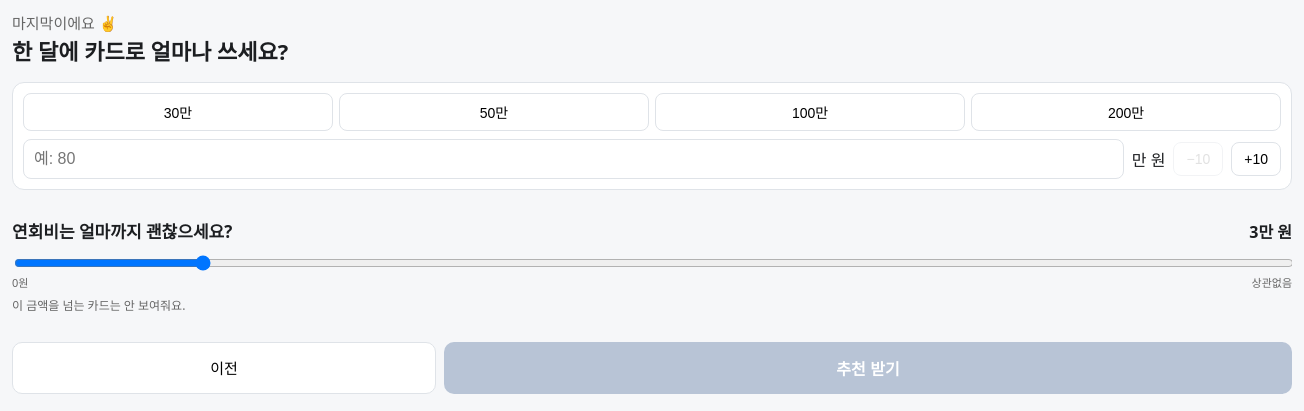
+10/−10 버튼으로 사용액을 미세 조정한다
This screenshot has width=1304, height=411.
Expected: the button named "10만 원 빼기" is disabled, [1174,142,1223,176]
Step 1. Click the button "50만" → coordinates (494, 112), box [339,93,649,131]
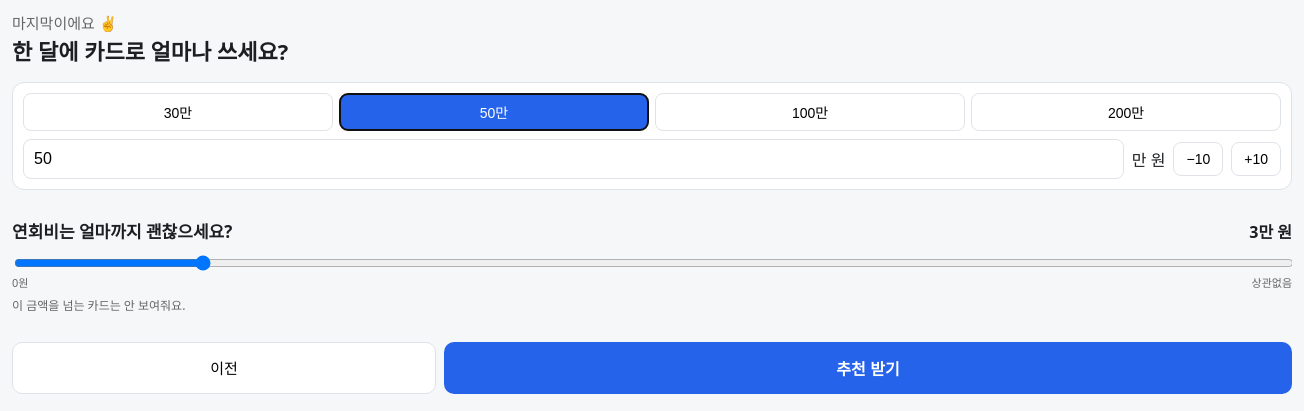
Step 2. Click the button named "10만 원 더하기" → coordinates (1256, 159), box [1231,142,1281,176]
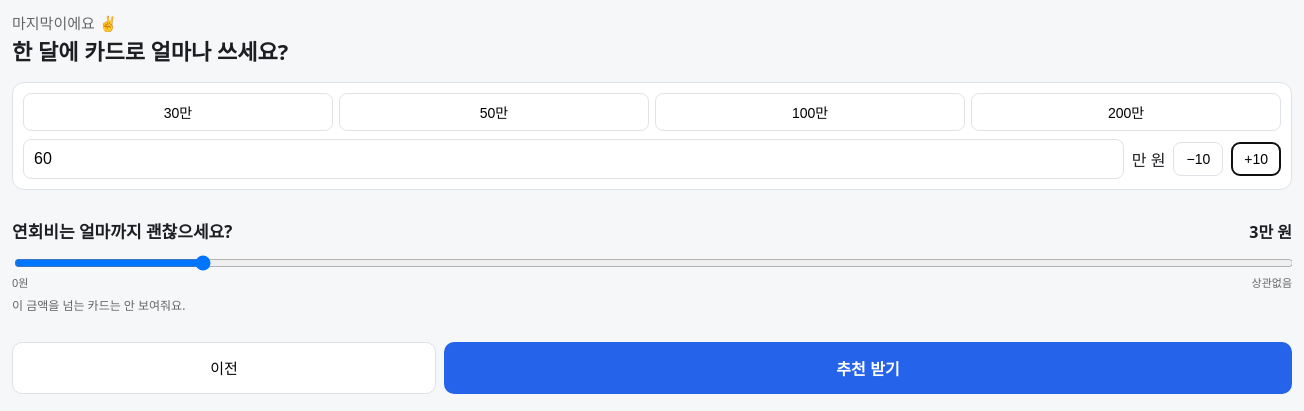
Step 3. Click the button named "10만 원 더하기" → coordinates (1256, 159), box [1231,142,1281,176]
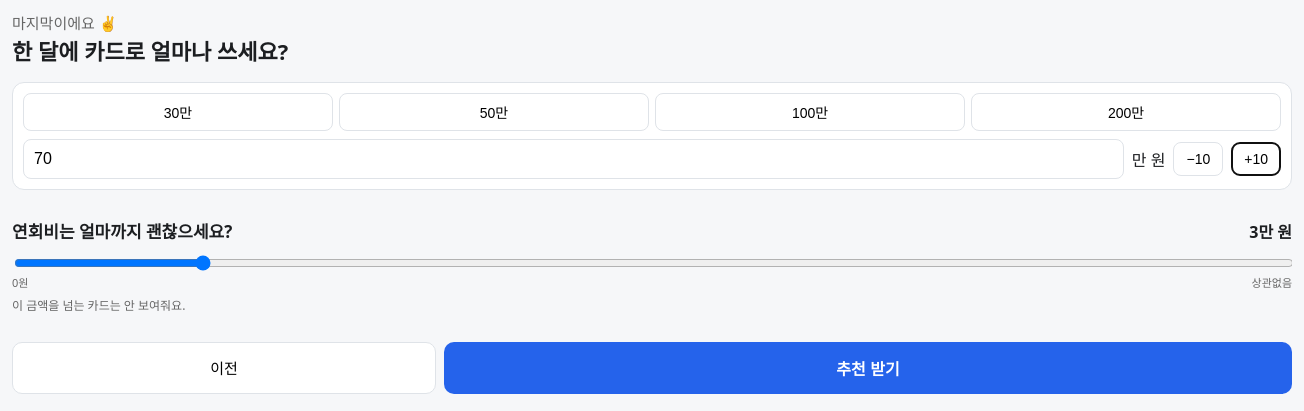
Expected: the number field named "한 달에 카드로 얼마나" holds "70", [23,139,1124,179]
Step 4. Click the button named "10만 원 빼기" → coordinates (1198, 159), box [1174,142,1223,176]
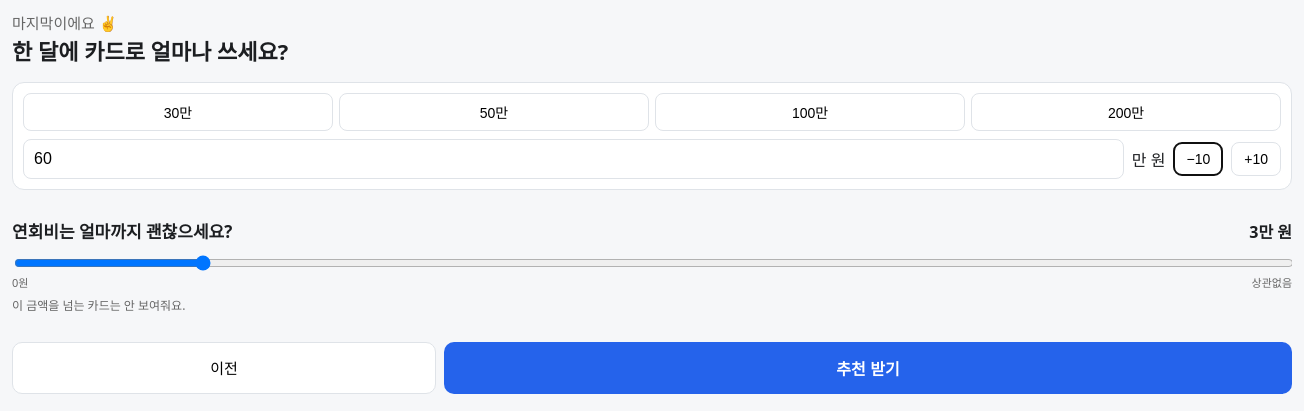
Expected: the number field named "한 달에 카드로 얼마나" holds "60", [23,139,1124,179]
